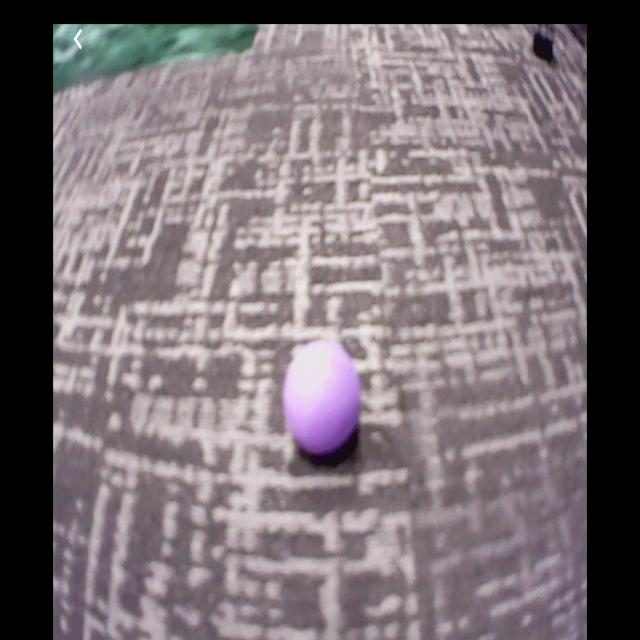ball: (286, 341, 362, 456)
